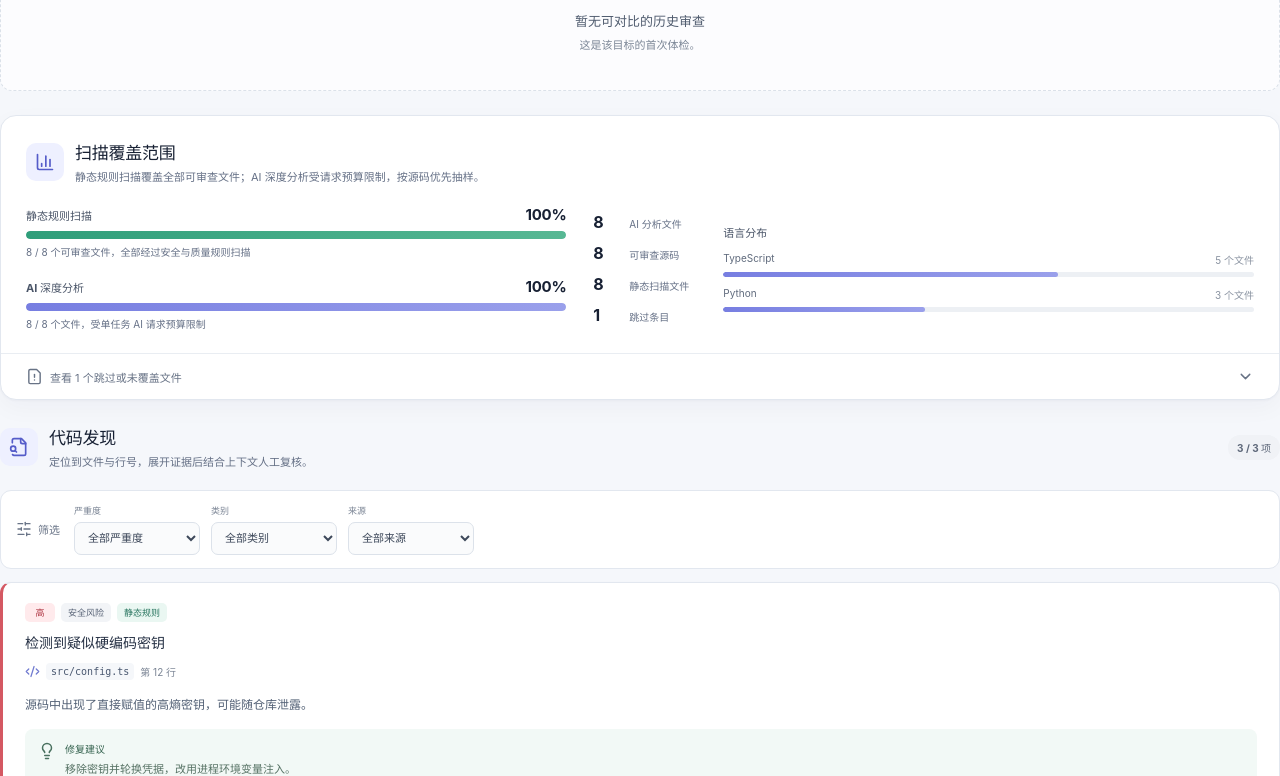
Scenario: ReviewDetailPage › 展示跳过文件、独立漏洞和参考链接
(page scrolled)
Click the heading "查看 1 个跳过或未覆盖文件" at (131, 378), box [26,368,1254,385]
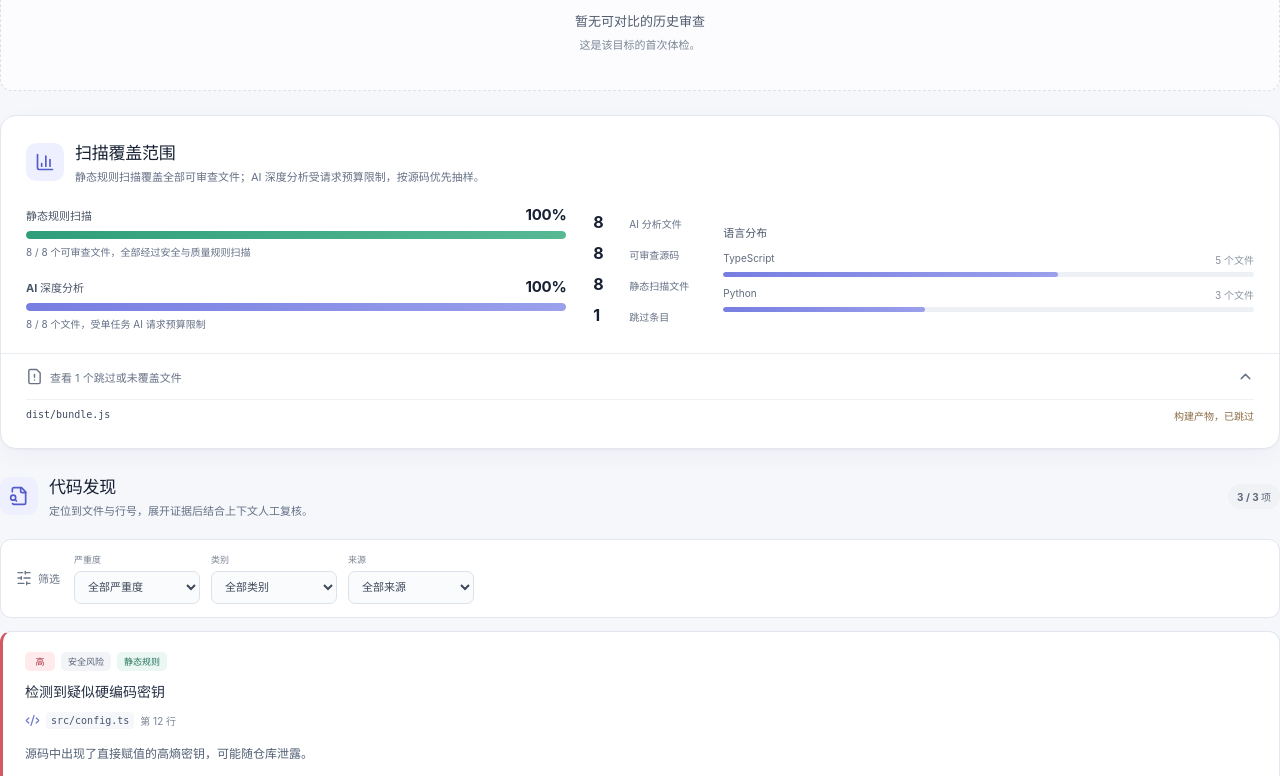
Expected: the text "dist/bundle.js" is shown, [26,409,110,420]
Expected: the text "构建产物，已跳过" is shown, [1174,409,1254,424]
